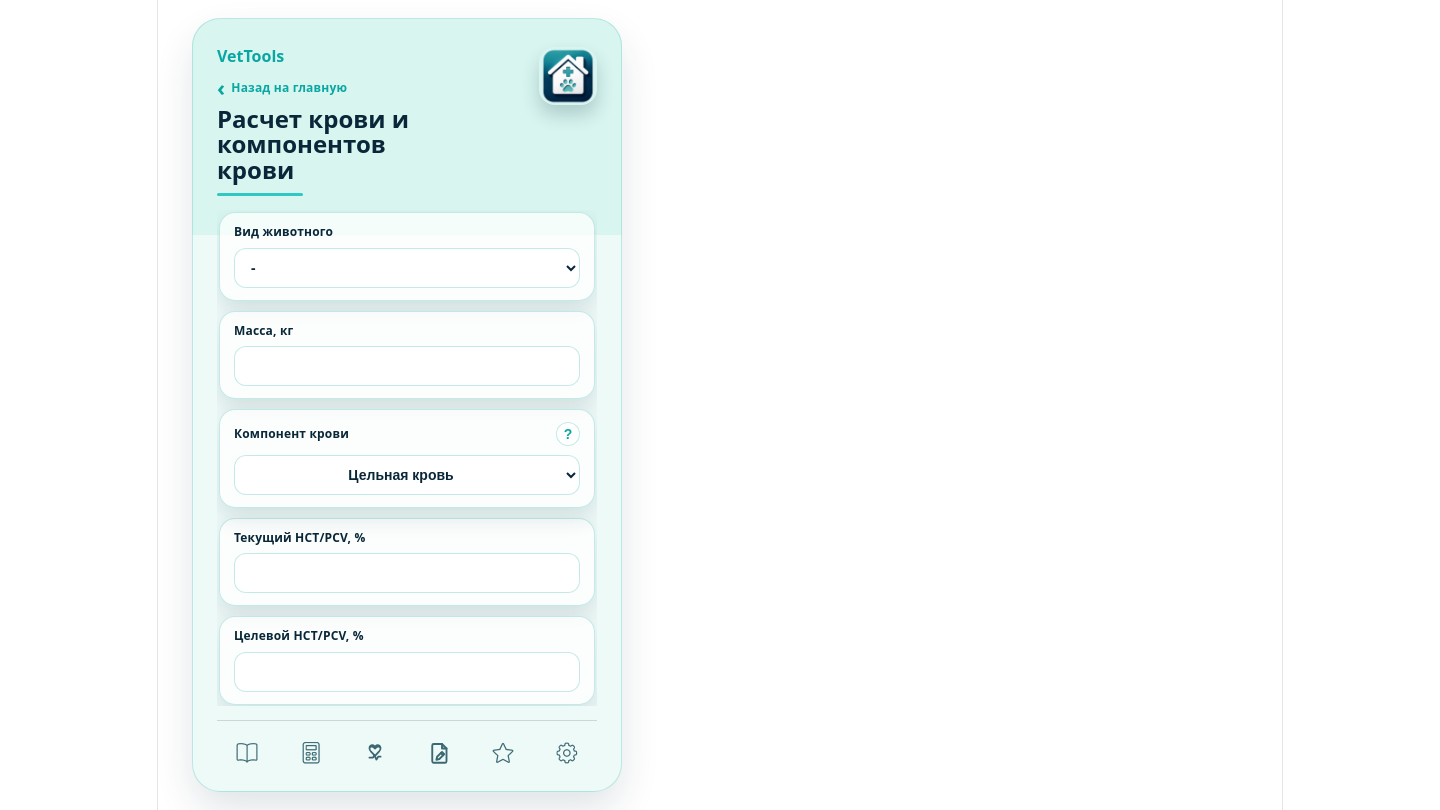
Test: BloodTransfusionPage › calculates plasma volume range without transfusion speed fields
The width and height of the screenshot is (1440, 810).
Select "Кошка" in the dropdown labelled "Вид животного" at (407, 268), box [234,248,580,288]
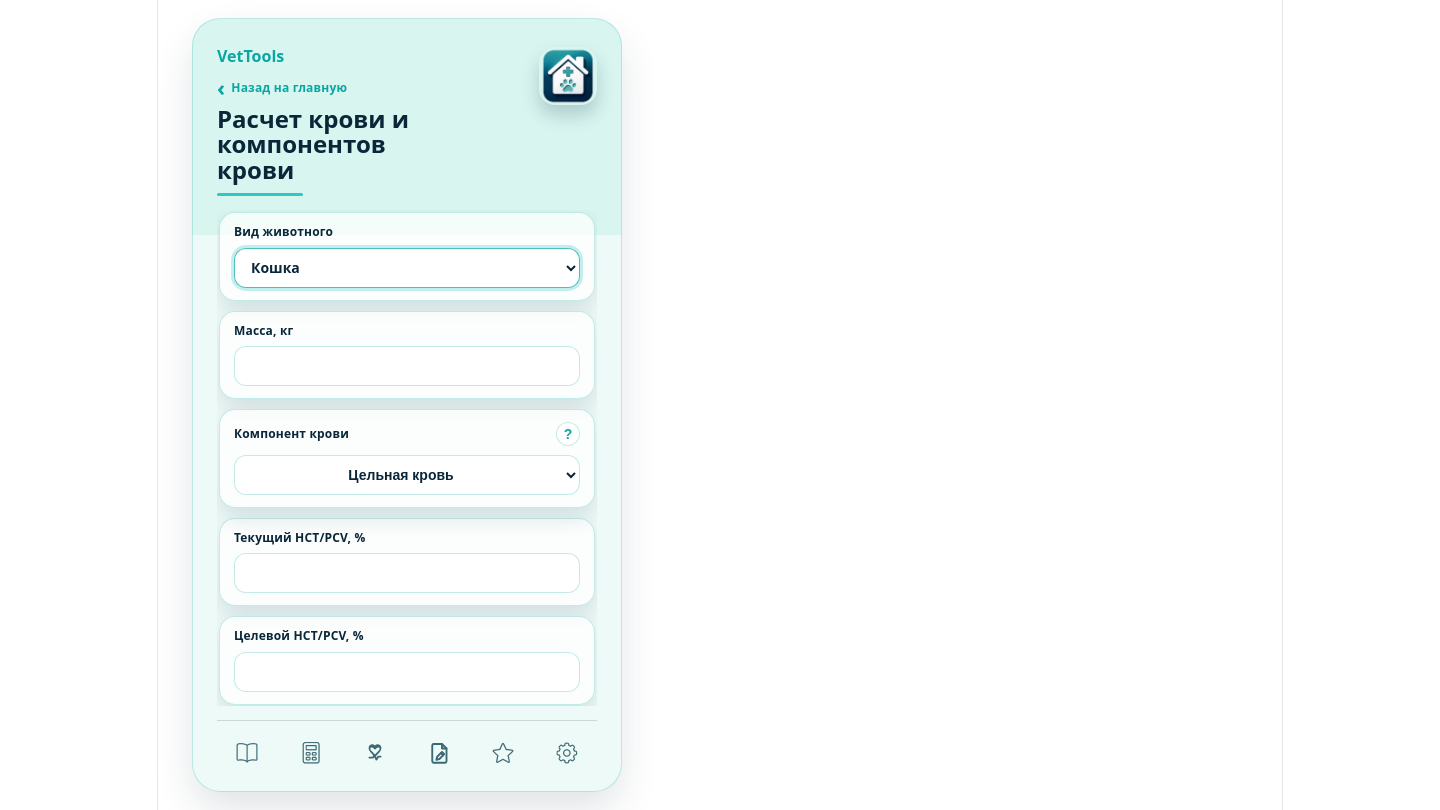
Type "4" into the number field labelled "Масса, кг".
click(407, 366); type("4")  # box [234,346,580,386]
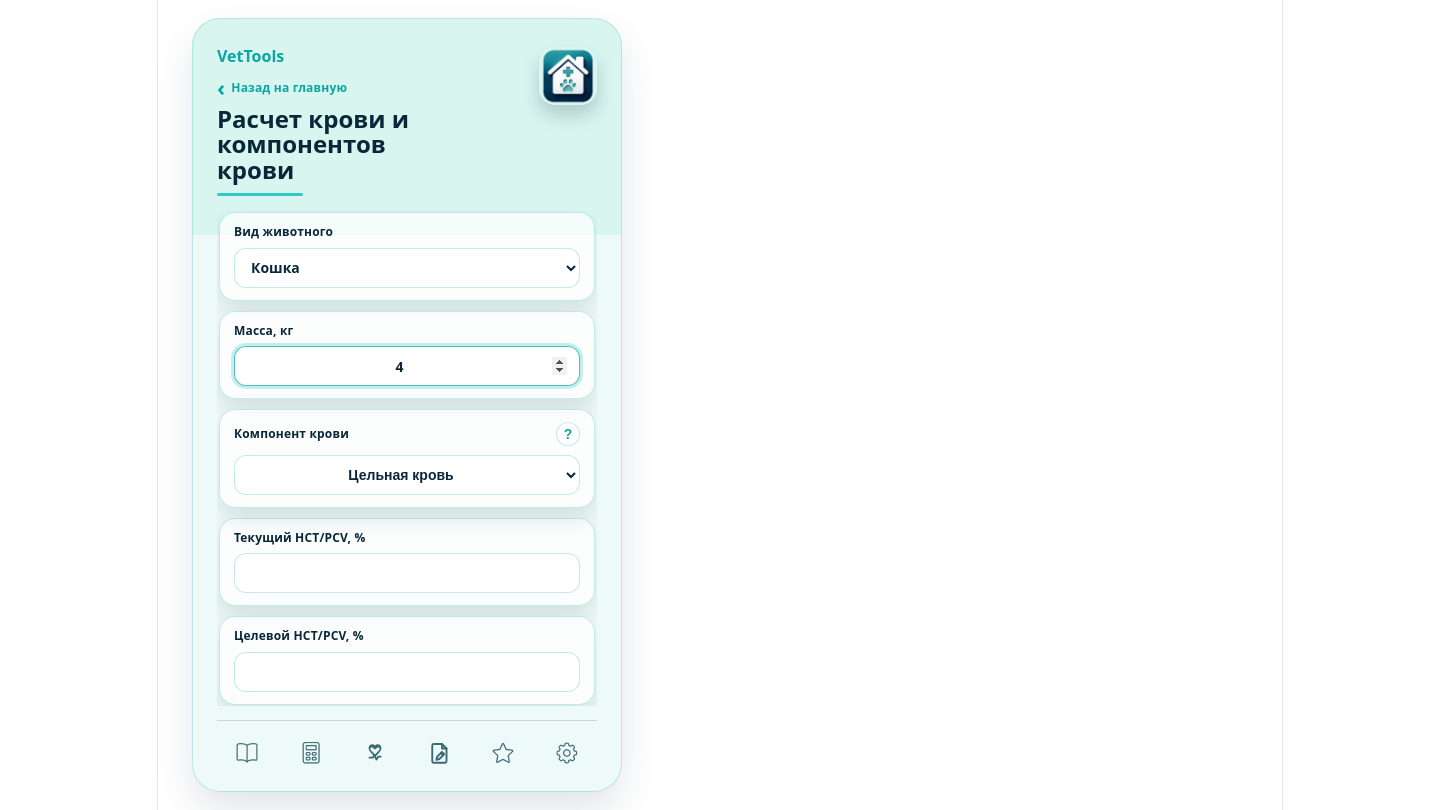
Select "Плазма / FFP" in the dropdown labelled "Компонент крови" at (407, 475), box [234,455,580,495]
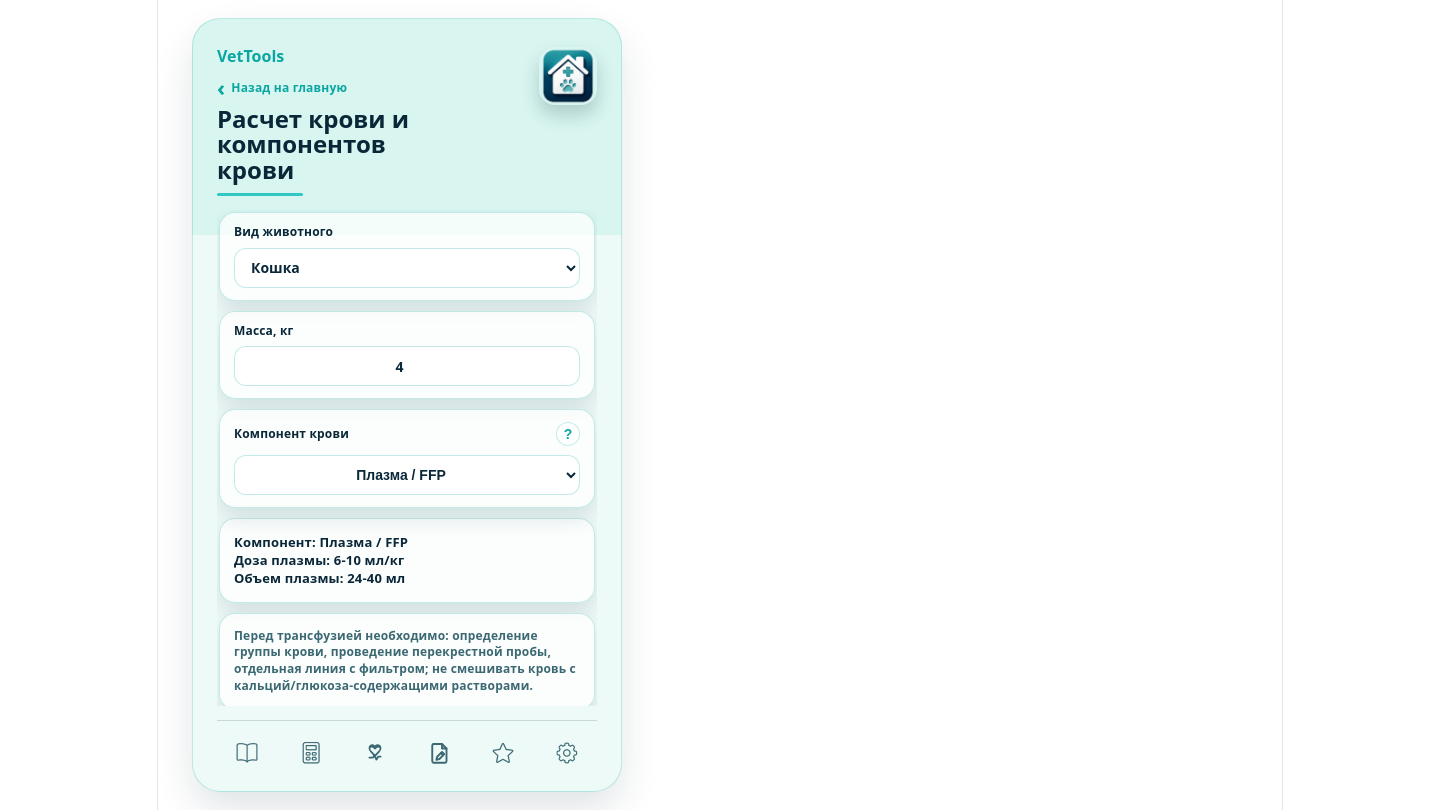
expect the text "Объем плазмы: 24-40 мл" is shown: met, box [234,533,408,588]
